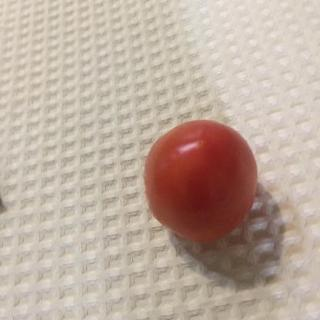Tomat: (139, 117, 265, 255)
